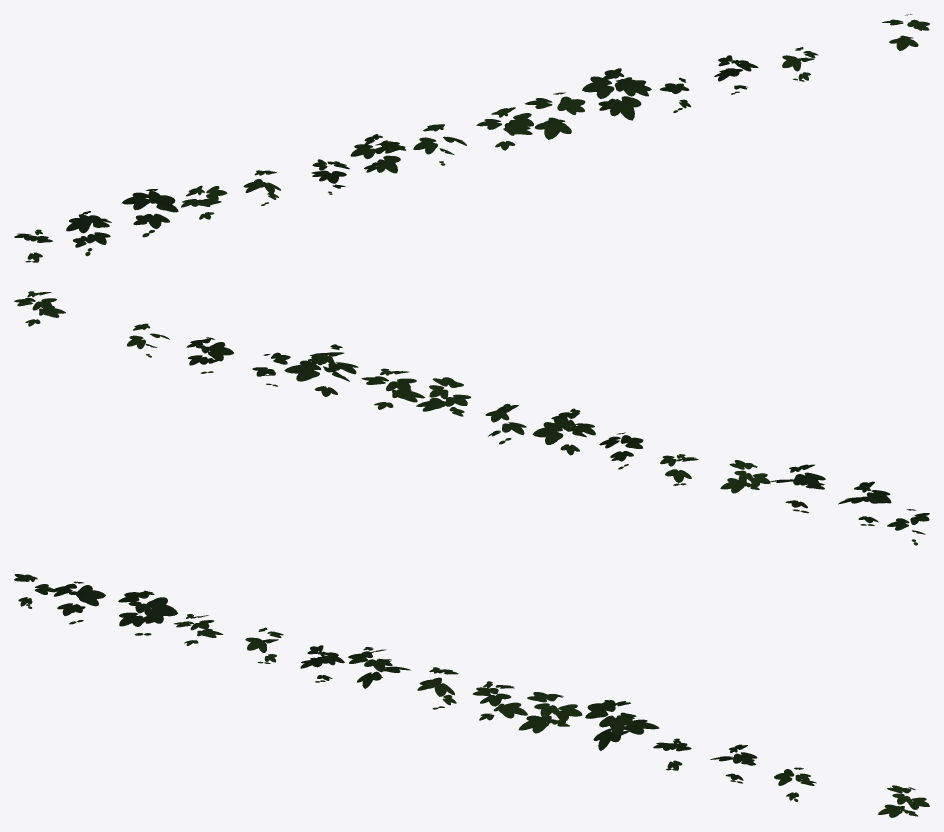
File: ROW_11_SEG2_foliage.dae
The picture shows the model from 3 angles, top to bottom: view 1: azimuth 30°, elevation 25°; view 2: azimuth 150°, elevation 25°; view 3: azimuth 330°, elevation 25°; orthographic projection.
Visible parts, largest first — view 1: ROW_11_SEG2_foliage; view 2: ROW_11_SEG2_foliage; view 3: ROW_11_SEG2_foliage.
Boxes of the visible parts, x1,y1,x2,y2 form: ROW_11_SEG2_foliage: [14, 14, 929, 262]; ROW_11_SEG2_foliage: [14, 291, 929, 545]; ROW_11_SEG2_foliage: [14, 574, 929, 817].
Size of the model in its own units: 4.73 by 0.2926 by 0.264.
